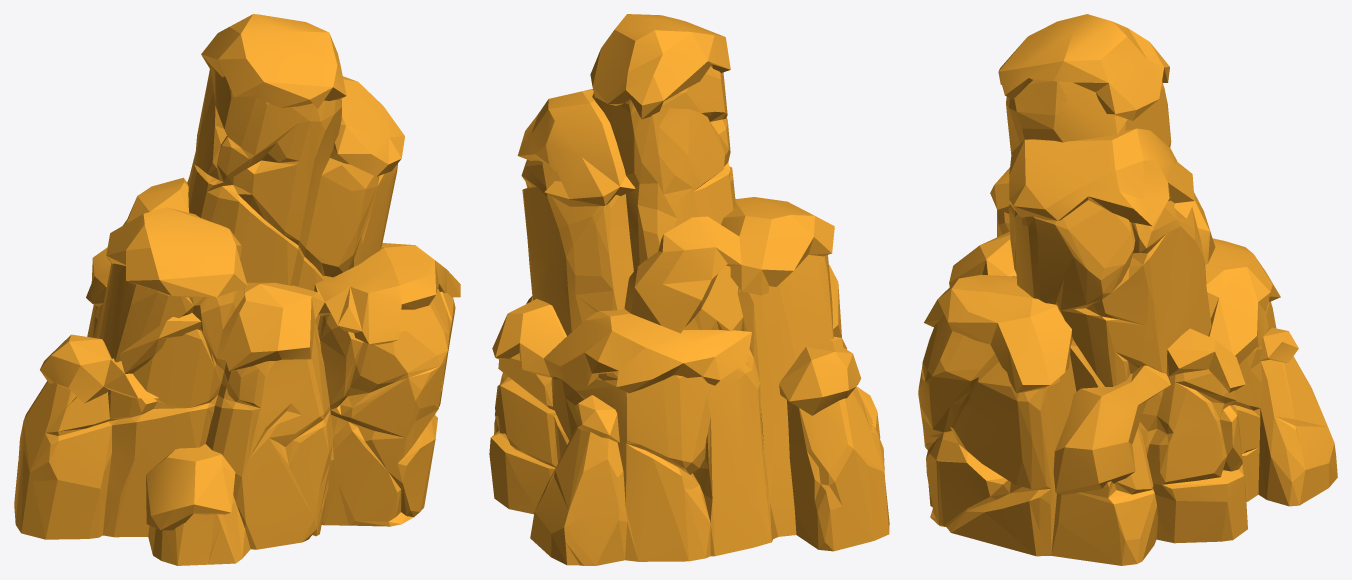
File: SM_Rock_B_Snow.fbx
3 renders of one model, left to right at view 1: azimuth 30°, elevation 25°; view 2: azimuth 150°, elevation 25°; view 3: azimuth 270°, elevation 25°, orthographic. The views are drawn at different scales.
Visible parts, largest first — view 1: rock-b-snow; view 2: rock-b-snow; view 3: rock-b-snow.
Part boxes in pixels (x1,y1,x2,y2): rock-b-snow: [14, 14, 460, 565]; rock-b-snow: [489, 14, 889, 565]; rock-b-snow: [918, 14, 1337, 565].
Size of the model in its own units: 11.35 by 12.51 by 10.18.
